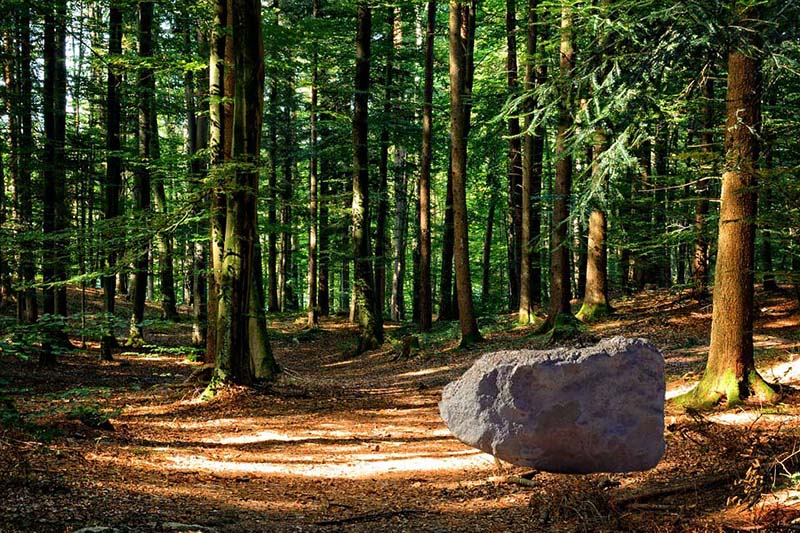Rocks: (434, 327, 674, 480)
